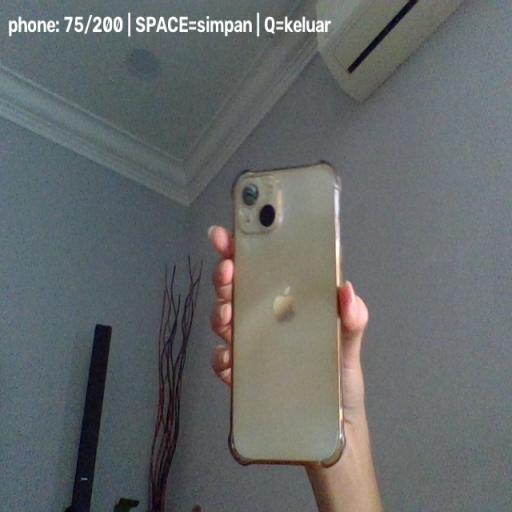Phone: (228, 161, 346, 468)
